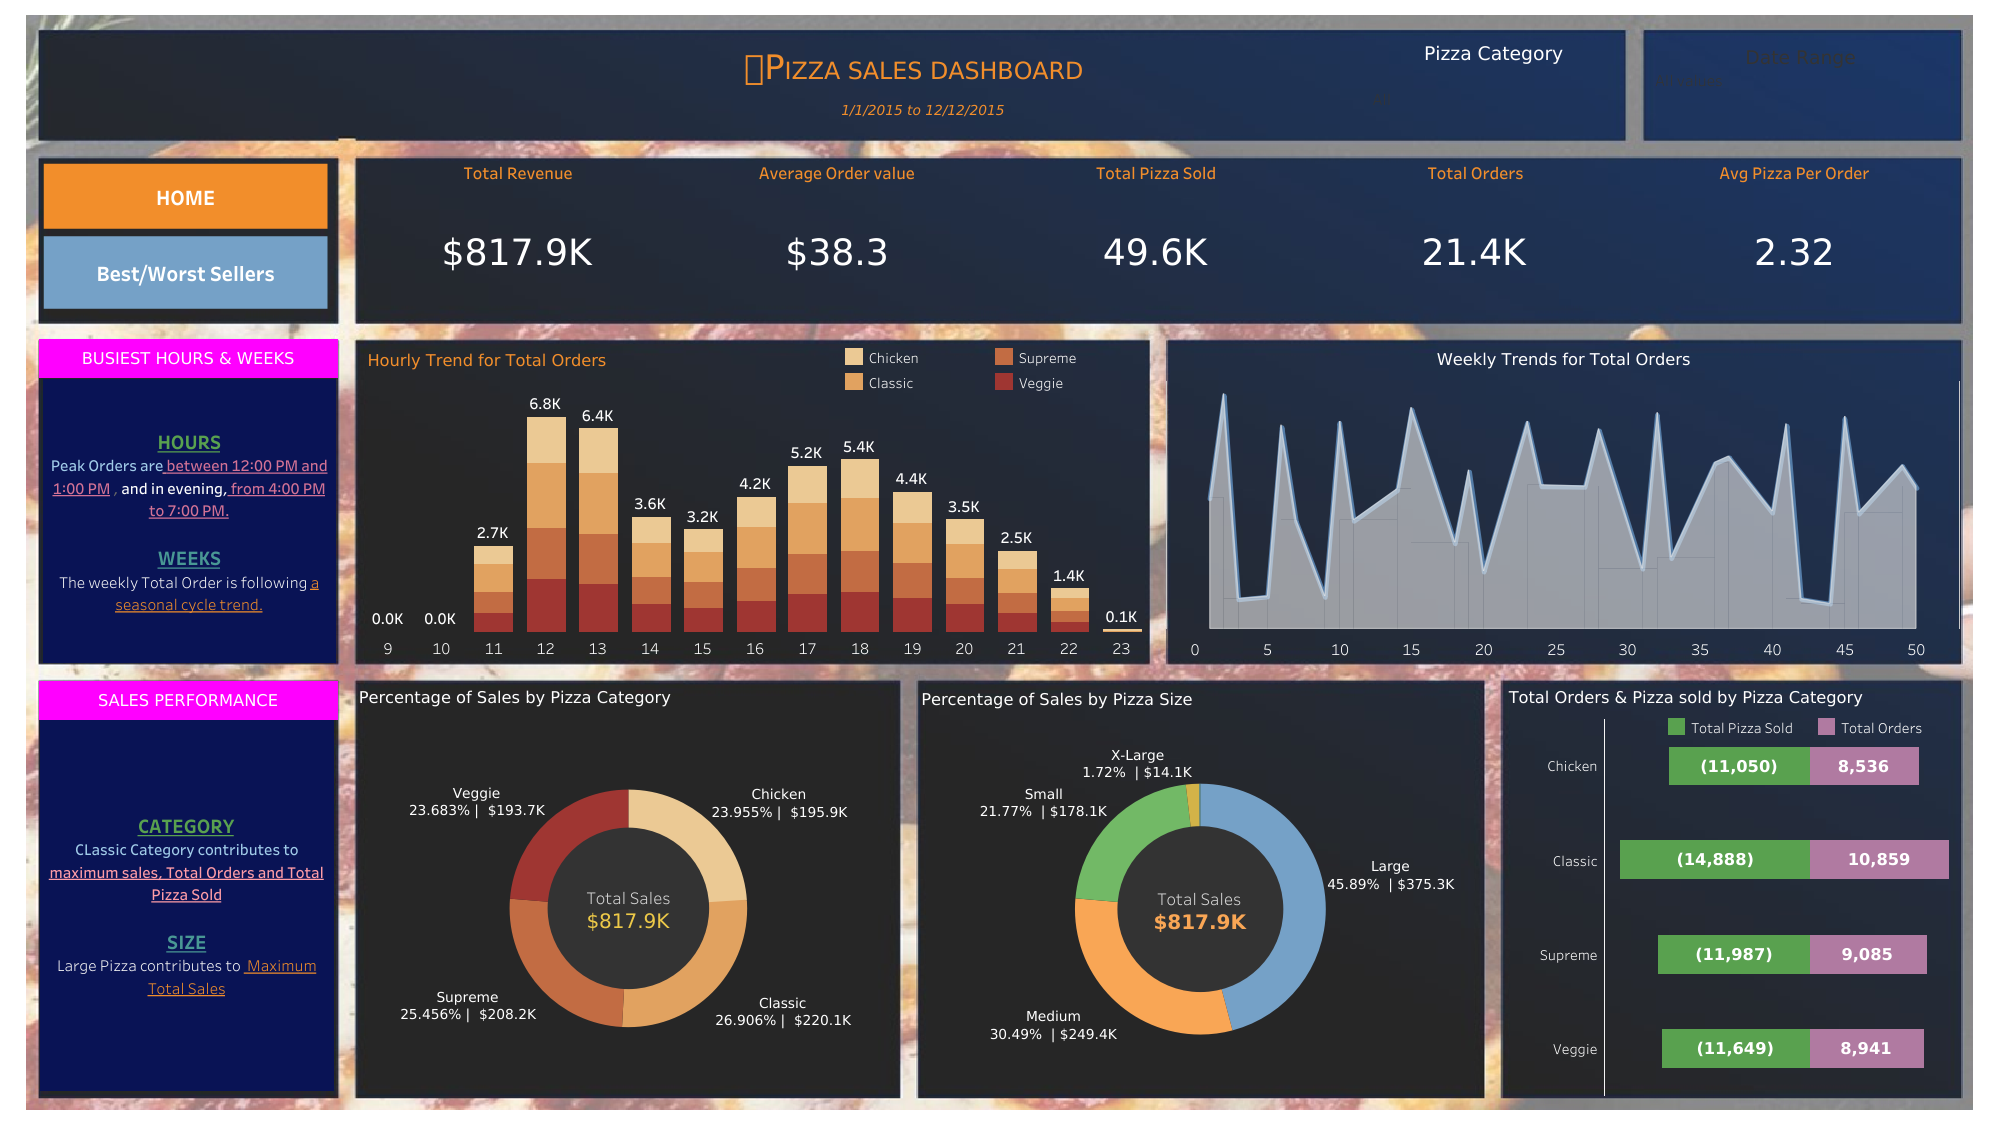

What the dashboard file says about the page in this screenshot:
{"tool":"tableau","page":{"name":"HOME","canvas":[1600,900],"ordinal":1},"visuals":[{"type":"image","param":"Image/Pizza_Sales_Dashboard_Background.jpg","box":[8,8,1584,884]},{"type":"text","box":[548,26,366,55]},{"type":"filter","title":"Hourly trend for total orders","param":"[federated.0rxyr2g0csmh531139cfr1olqhgw].[none:pizza_category:nk]","box":[1096,33,198,75]},{"type":"filter","title":"Hourly trend for total orders","param":"[federated.0rxyr2g0csmh531139cfr1olqhgw].[none:order_date:qk]","box":[1321,36,239,71]},{"type":"worksheet","title":"Date Range","mark":"Automatic","box":[472,67,533,42]},{"type":"worksheet","title":"KPIS","mark":"Automatic","box":[287,127,1276,131]},{"type":"dashboard-object","box":[35,131,227,52]},{"type":"dashboard-object","box":[35,189,227,58]},{"type":"text","box":[31,271,239,31]},{"type":"worksheet","title":"Weekly trend for total orders","mark":"Area","rows":["Calculation_4337810877746233346","Calculation_4337810877746233346"],"cols":["order_date"],"box":[933,273,636,261]},{"type":"worksheet","title":"Hourly trend for total orders","mark":"Bar","rows":["quantity","quantity"],"cols":["order_time"],"box":[290,274,628,253]},{"type":"legend","title":"Hourly trend for total orders","param":"[federated.0rxyr2g0csmh531139cfr1olqhgw].[none:pizza_category:nk]","box":[673,275,254,52]},{"type":"text","box":[34,303,235,227]},{"type":"worksheet","title":"Percentages of Sales by Pizza Category","mark":"Pie","rows":["Calculation_4337810878111883270","Calculation_4337810878111911944"],"box":[283,543,439,335]},{"type":"worksheet","title":"Total Orders & Pizza sold by Pizza Category","mark":"Automatic","rows":["pizza_category"],"box":[1203,543,369,333]},{"type":"text","box":[31,545,239,31]},{"type":"worksheet","title":"Percentage of Sales by Pizza Size","mark":"Pie","rows":["Calculation_4337810878120280074","Calculation_4337810878120300556"],"box":[733,545,455,333]},{"type":"legend","title":"Total Orders & Pizza sold by Pizza Category","param":"[federated.0rxyr2g0csmh531139cfr1olqhgw].[:Measure Names]","box":[1331,571,260,20]},{"type":"text","box":[32,575,235,298]}]}

Visuals, with their boxes in screenshot pixels (x1, y1, x2, y2), scaled from the page's 1600x900 canvas onto the 1999x1124 screenshot:
image: bbox(10, 10, 1989, 1114)
text: bbox(685, 32, 1142, 101)
"Hourly trend for total orders" filter: bbox(1369, 41, 1617, 135)
"Hourly trend for total orders" filter: bbox(1650, 45, 1949, 134)
"Date Range" worksheet: bbox(590, 84, 1256, 136)
"KPIS" worksheet: bbox(359, 159, 1953, 322)
dashboard-object: bbox(44, 164, 327, 229)
dashboard-object: bbox(44, 236, 327, 308)
text: bbox(39, 338, 337, 377)
"Weekly trend for total orders" worksheet (Area marks): bbox(1166, 341, 1960, 667)
"Hourly trend for total orders" worksheet (Bar marks): bbox(362, 342, 1147, 658)
"Hourly trend for total orders" legend: bbox(841, 343, 1158, 408)
text: bbox(42, 378, 336, 662)
"Percentages of Sales by Pizza Category" worksheet (Pie marks): bbox(354, 678, 902, 1097)
"Total Orders & Pizza sold by Pizza Category" worksheet: bbox(1503, 678, 1964, 1094)
text: bbox(39, 681, 337, 719)
"Percentage of Sales by Pizza Size" worksheet (Pie marks): bbox(916, 681, 1484, 1097)
"Total Orders & Pizza sold by Pizza Category" legend: bbox(1663, 713, 1988, 738)
text: bbox(40, 718, 334, 1090)
